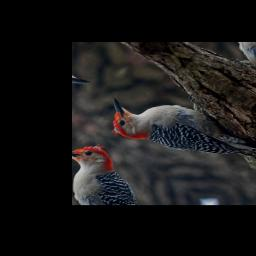Woodpecker: (90, 66, 256, 200)
